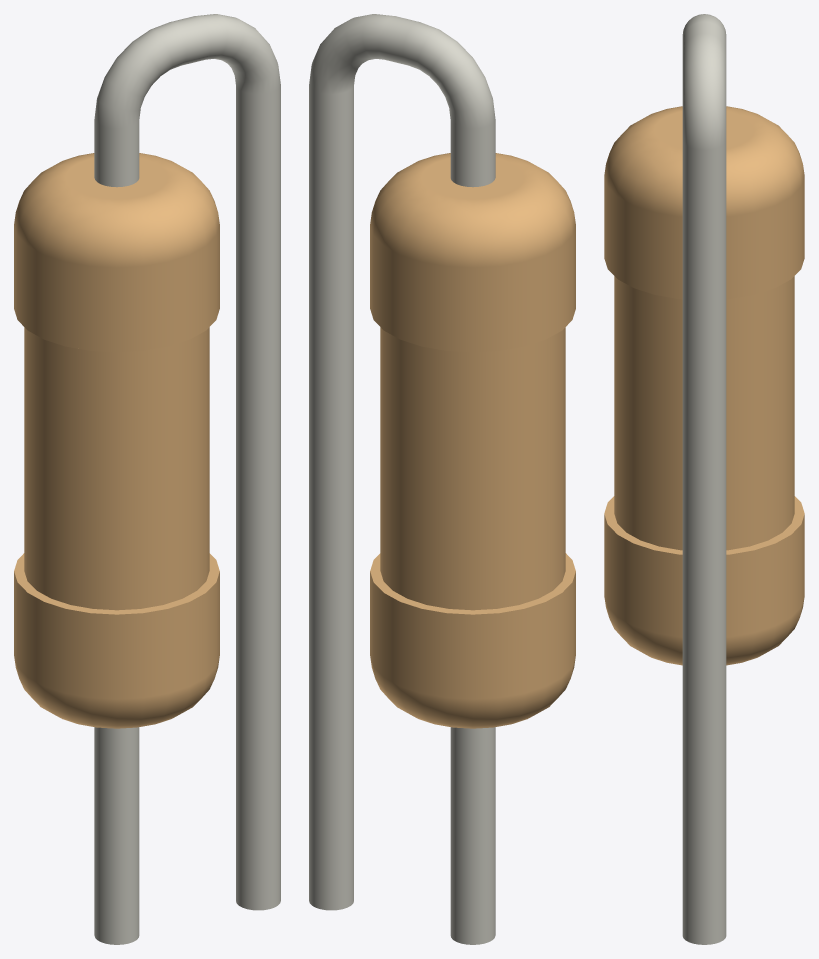
File: Resistor_THT__R_Axial_DIN0309_L9.0mm_D3.2mm_P2.54mm_Vertical.glb
The picture shows the model from 3 angles, left to right: view 1: azimuth 30°, elevation 25°; view 2: azimuth 150°, elevation 25°; view 3: azimuth 270°, elevation 25°; orthographic projection. The views are drawn at different scales.
Parts seen in each view (by area): view 1: R_Axial_DIN0309_L90mm_D32mm_P254mm_Vertical; view 2: R_Axial_DIN0309_L90mm_D32mm_P254mm_Vertical; view 3: R_Axial_DIN0309_L90mm_D32mm_P254mm_Vertical.
Part boxes in pixels (x1=…): R_Axial_DIN0309_L90mm_D32mm_P254mm_Vertical: x1=14, y1=14, x2=280, y2=944; R_Axial_DIN0309_L90mm_D32mm_P254mm_Vertical: x1=309, y1=14, x2=575, y2=944; R_Axial_DIN0309_L90mm_D32mm_P254mm_Vertical: x1=604, y1=14, x2=804, y2=944.
Bounding box in the file's own units: 0.00449 × 0.0154 × 0.0032.
